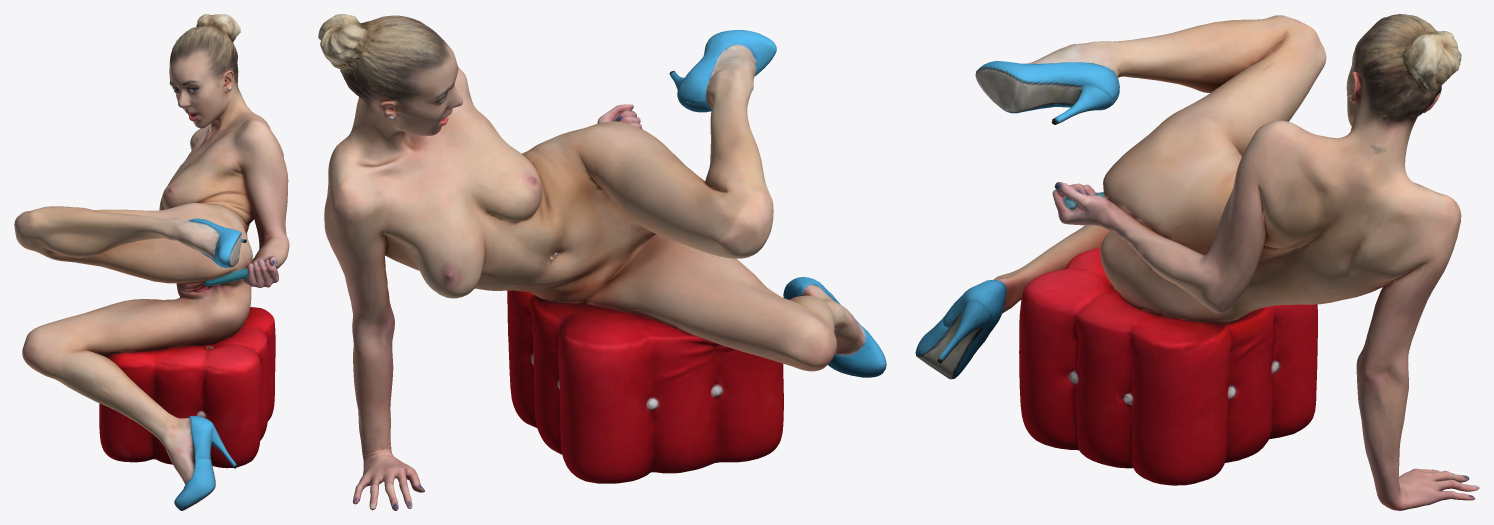
The model's file is nsC001xg.glb.
3 renders of one model, left to right at view 1: azimuth 30°, elevation 25°; view 2: azimuth 150°, elevation 25°; view 3: azimuth 270°, elevation 25°, orthographic. The views are drawn at different scales.
Visible parts, largest first — view 1: Atlas1.002; view 2: Atlas1.002; view 3: Atlas1.002.
Part boxes in pixels (bbox=[...]): Atlas1.002: bbox=[14, 14, 289, 510]; Atlas1.002: bbox=[318, 14, 886, 510]; Atlas1.002: bbox=[915, 14, 1479, 510].
Bounding box in the file's own units: 0.9512 × 1.03 × 1.09.
1 material, 1 textured.
